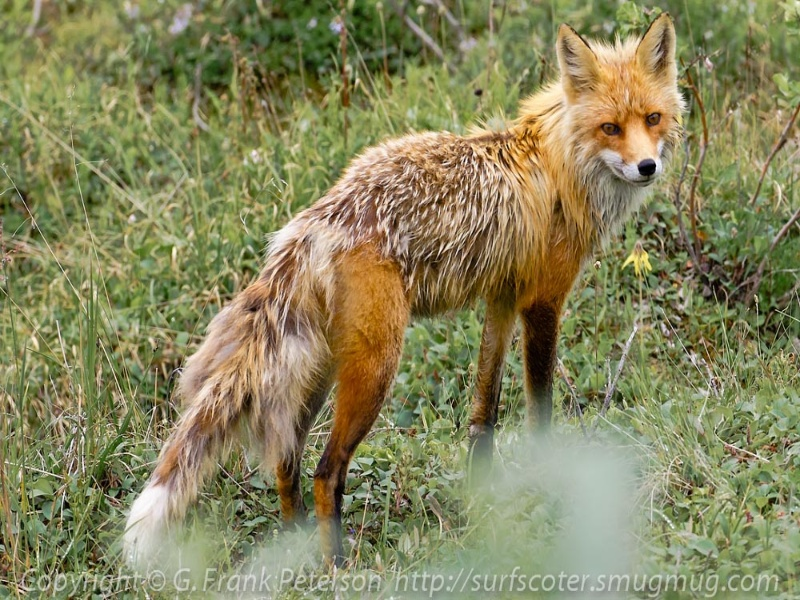fox: (125, 12, 689, 580)
